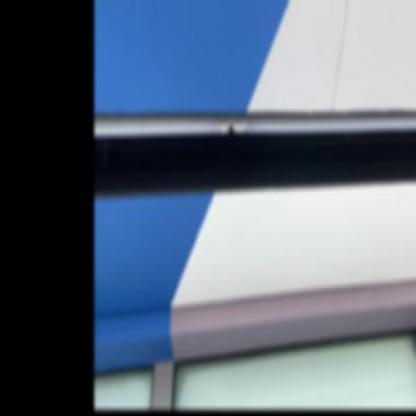light_off: (96, 72, 415, 166)
